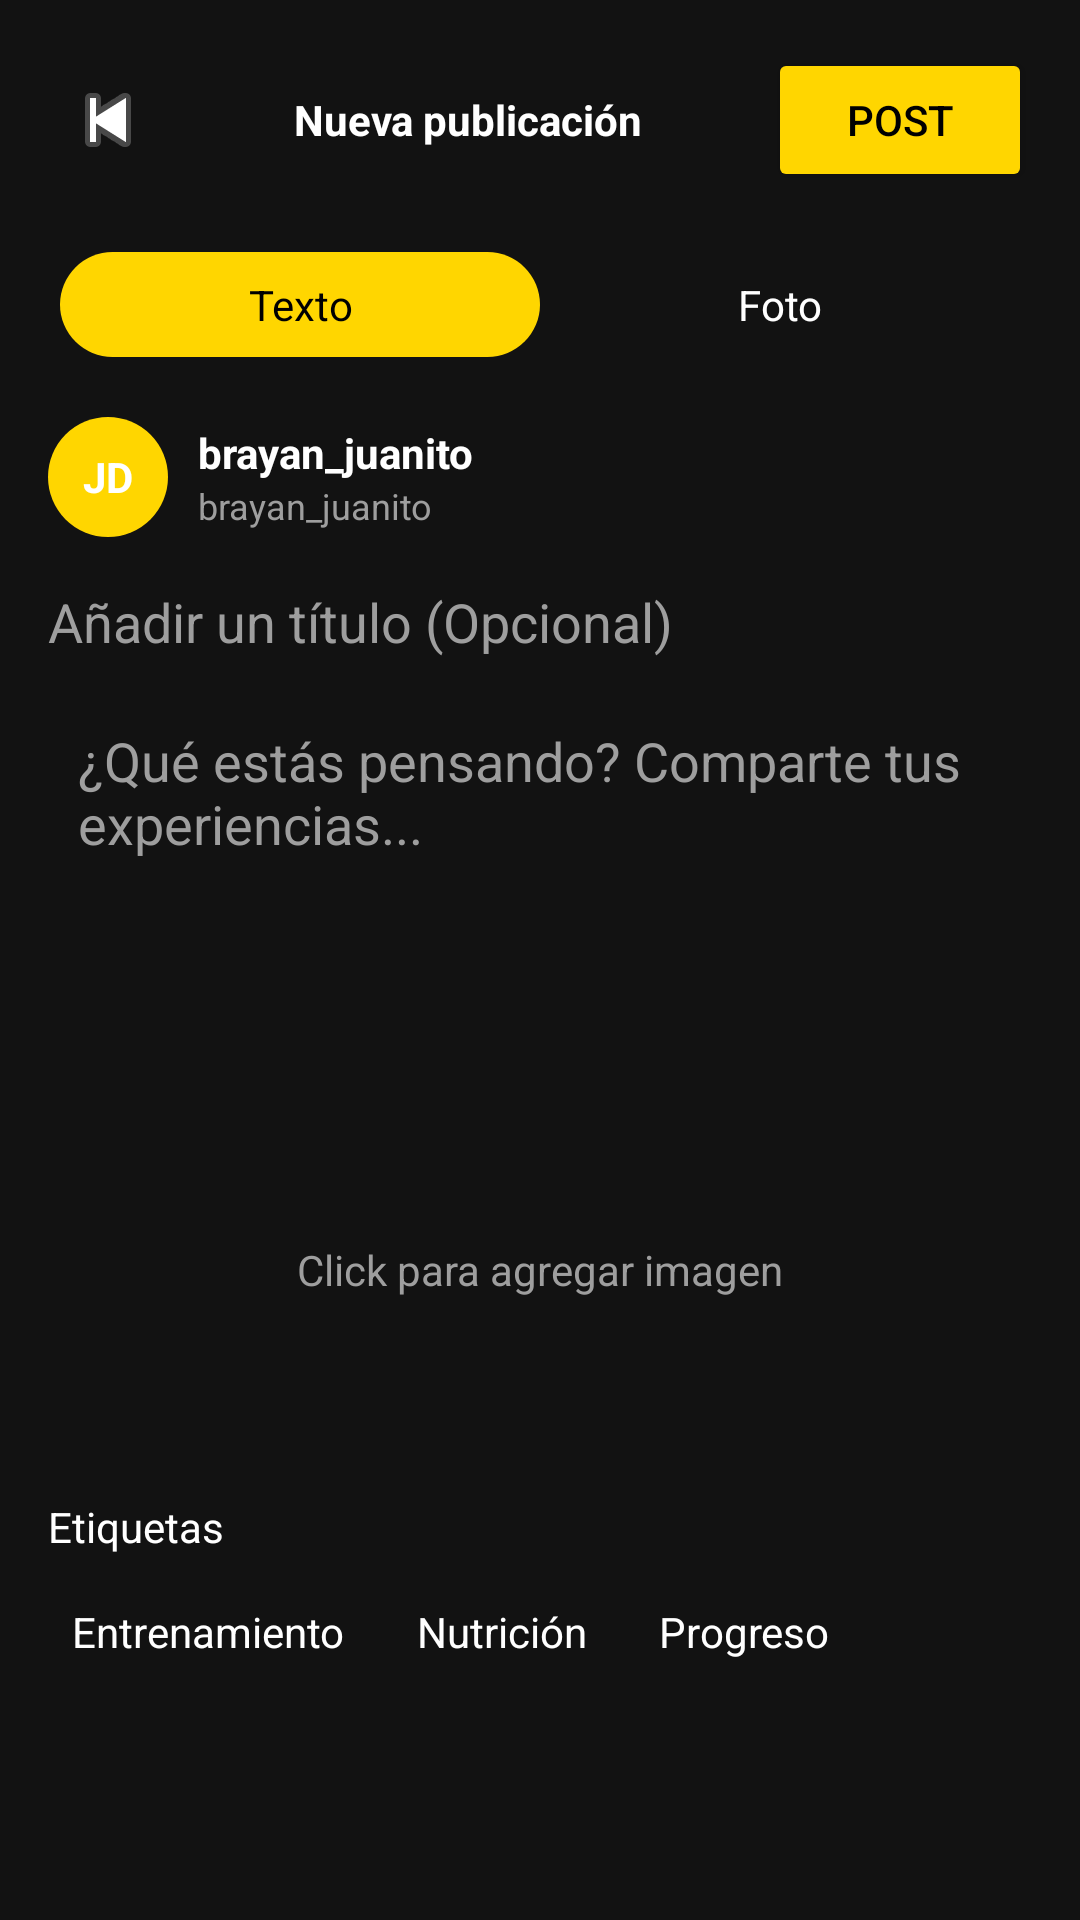

Named icons in this screenshot (1080 × 1920) and their centers, (x=x, y=y):
previous: (x=108, y=120)
